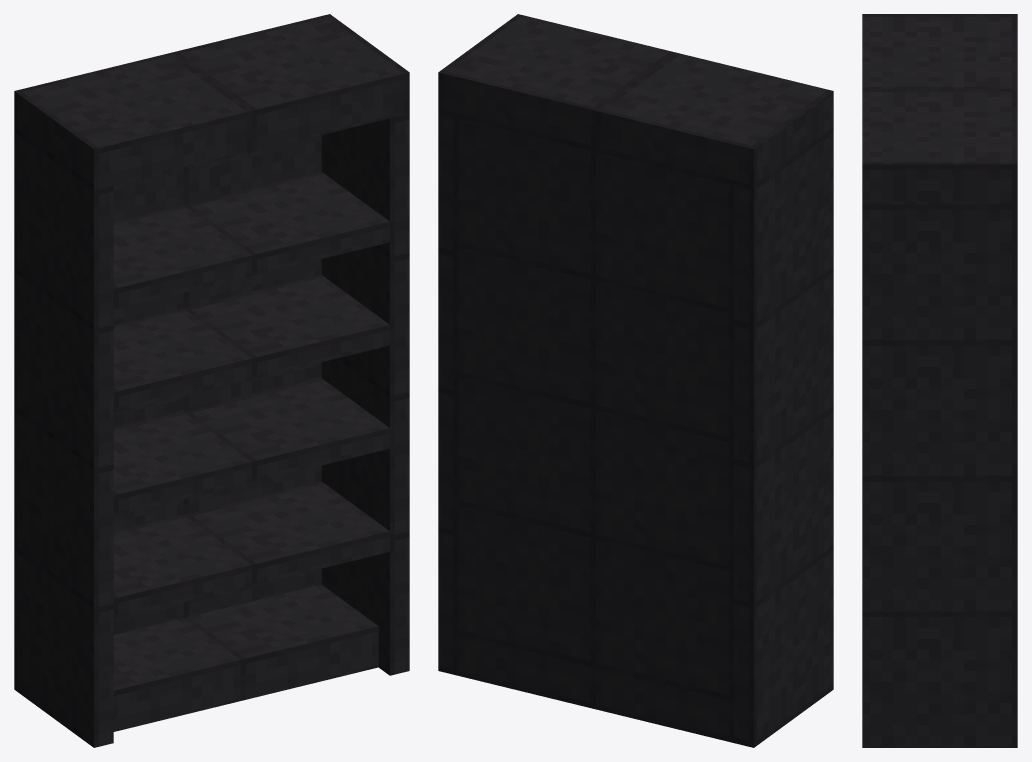
File: normalBookcaseMansion_1.glb
The picture shows the model from 3 angles, left to right: view 1: azimuth 30°, elevation 25°; view 2: azimuth 150°, elevation 25°; view 3: azimuth 270°, elevation 25°; orthographic projection. The views are drawn at different scales.
Parts seen in each view (by area): view 1: normalBookcaseMansion_1; view 2: normalBookcaseMansion_1; view 3: normalBookcaseMansion_1.
Part boxes in pixels (<box>): normalBookcaseMansion_1: <box>14,14,409,747</box>; normalBookcaseMansion_1: <box>438,14,833,747</box>; normalBookcaseMansion_1: <box>862,14,1017,747</box>.
Bounding box in the file's own units: 1 × 1.81 × 0.4375.
1 material, 1 textured.
